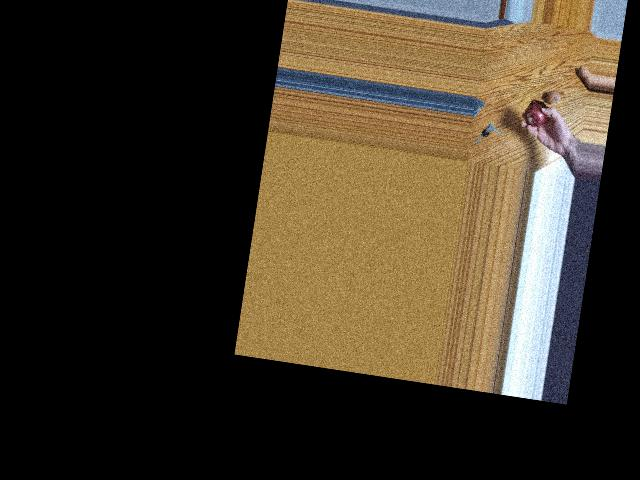onion: (524, 103, 547, 126)
